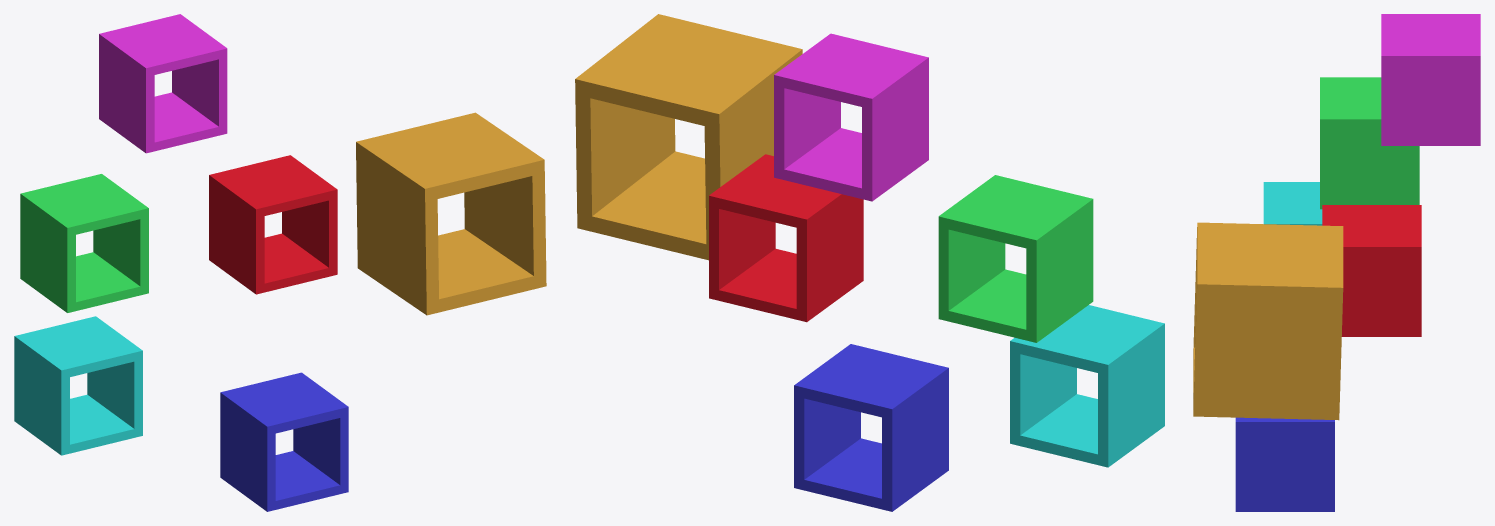
The model's file is cubes.glb.
3 renders of one model, left to right at view 1: azimuth 30°, elevation 25°; view 2: azimuth 150°, elevation 25°; view 3: azimuth 270°, elevation 25°, orthographic. The views are drawn at different scales.
Visible parts, largest first — view 1: Cube.001, Cube.004, Cube.003, Cube.005, Cube, Cube.002; view 2: Cube.001, Cube.002, Cube.003, Cube.004, Cube.005, Cube; view 3: Cube.001, Cube.003, Cube, Cube.002, Cube.004, Cube.005.
Boxes of the visible parts, bbox=[...] form: Cube.001: bbox=[356, 112, 546, 315]; Cube.004: bbox=[220, 372, 348, 511]; Cube.003: bbox=[99, 14, 227, 153]; Cube.005: bbox=[14, 316, 142, 455]; Cube: bbox=[209, 155, 337, 294]; Cube.002: bbox=[20, 174, 148, 312]; Cube.001: bbox=[575, 14, 802, 260]; Cube.002: bbox=[938, 175, 1093, 342]; Cube.003: bbox=[774, 33, 928, 201]; Cube.004: bbox=[794, 344, 948, 511]; Cube.005: bbox=[1010, 305, 1164, 467]; Cube: bbox=[709, 154, 863, 322]; Cube.001: bbox=[1193, 222, 1343, 420]; Cube.003: bbox=[1381, 14, 1480, 145]; Cube: bbox=[1322, 205, 1421, 336]; Cube.002: bbox=[1320, 77, 1419, 209]; Cube.004: bbox=[1235, 417, 1334, 511]; Cube.005: bbox=[1263, 182, 1322, 225].
Bounding box in the file's own units: 6.75 × 5.8 × 3.52.
